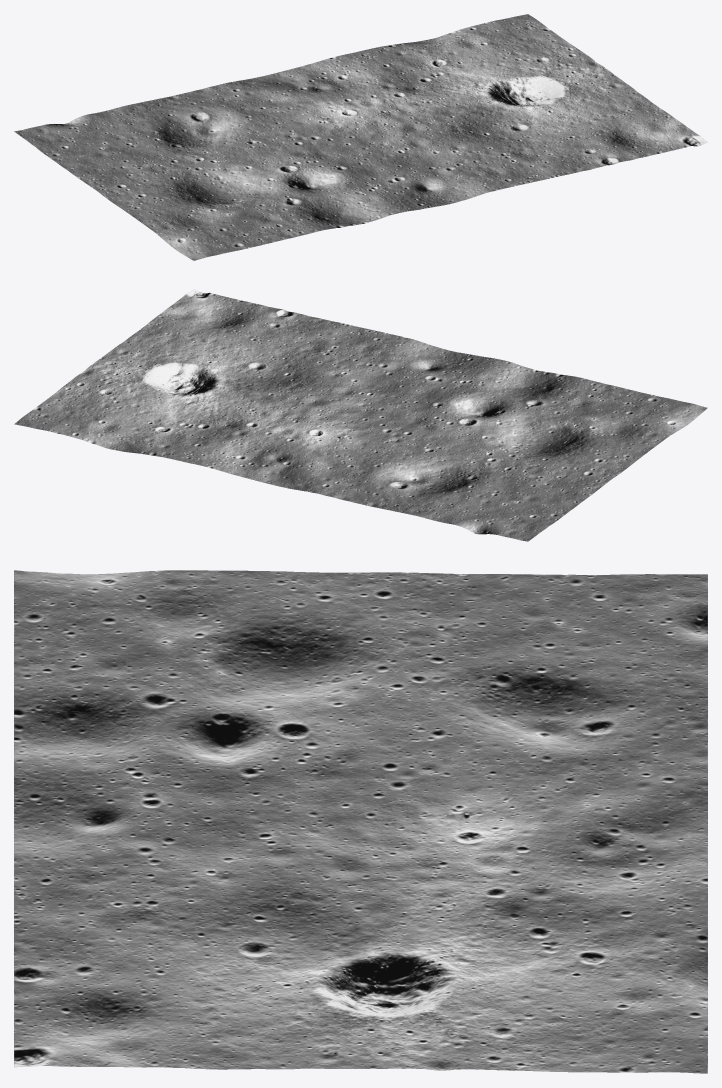
3 views of the same model, one above another, from view 1: azimuth 30°, elevation 25°; view 2: azimuth 150°, elevation 25°; view 3: azimuth 270°, elevation 25° (orthographic). The views are drawn at different scales.
Visible parts, largest first — view 1: NAC_DTM_APOLLO11_1; view 2: NAC_DTM_APOLLO11_1; view 3: NAC_DTM_APOLLO11_1.
Part boxes in pixels (bbox=[...]): NAC_DTM_APOLLO11_1: bbox=[14, 14, 707, 260]; NAC_DTM_APOLLO11_1: bbox=[14, 289, 707, 541]; NAC_DTM_APOLLO11_1: bbox=[14, 570, 707, 1073].
Bounding box in the file's own units: 100 × 2.96 × 60.6.
Materials: 1 (1 with a texture image).
